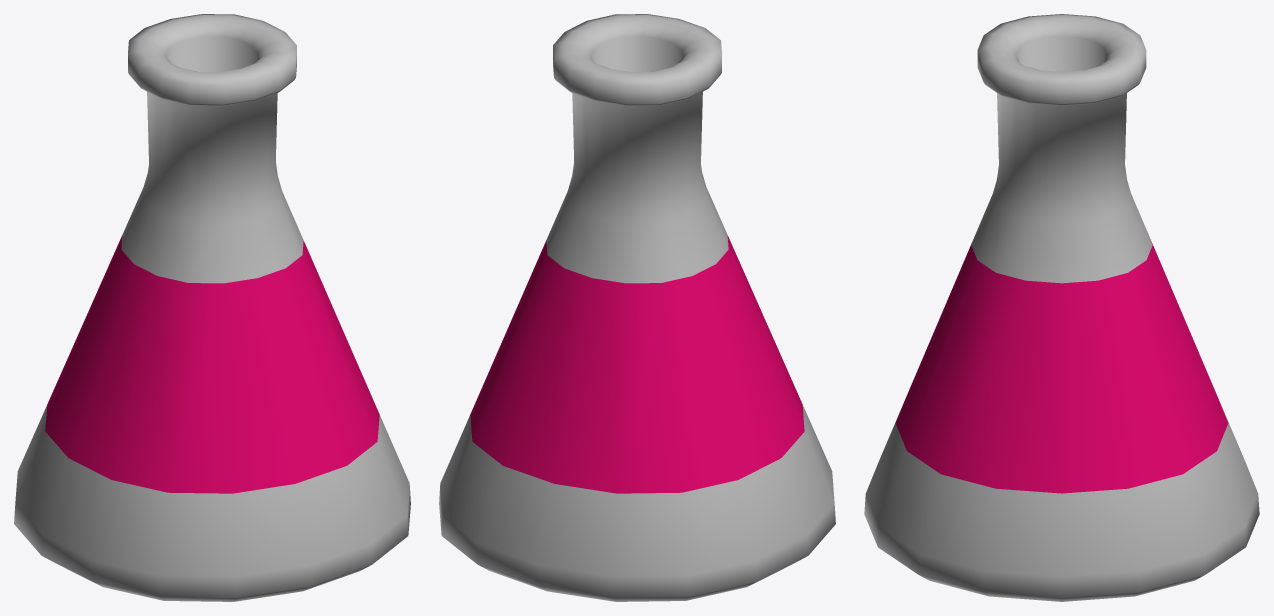
The model's file is Flask.fbx.
3 renders of one model, left to right at view 1: azimuth 30°, elevation 25°; view 2: azimuth 150°, elevation 25°; view 3: azimuth 270°, elevation 25°, orthographic.
Parts seen in each view (by area): view 1: Flask; view 2: Flask; view 3: Flask.
Boxes of the visible parts, x1=… form: Flask: x1=14, y1=14, x2=410, y2=601; Flask: x1=439, y1=14, x2=835, y2=601; Flask: x1=864, y1=14, x2=1259, y2=601.
Bounding box in the file's own units: 23.58 × 32.17 × 23.58.
